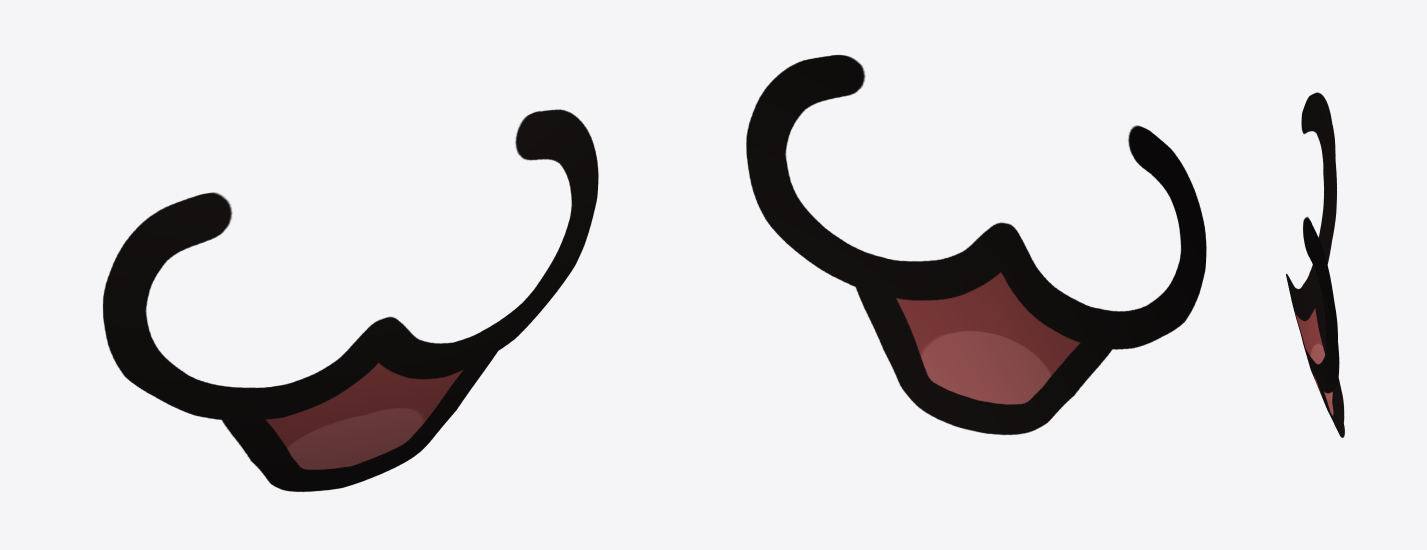
Rendered from Mouth6.glb.
3 views of the same model, side by side, from view 1: azimuth 30°, elevation 25°; view 2: azimuth 150°, elevation 25°; view 3: azimuth 270°, elevation 25° (orthographic). The views are drawn at different scales.
Parts seen in each view (by area): view 1: Mouth6; view 2: Mouth6; view 3: Mouth6.
Part boxes in pixels (<box>): Mouth6: <box>102,109,598,491</box>; Mouth6: <box>746,54,1206,434</box>; Mouth6: <box>1286,92,1344,437</box>.
Bounding box in the file's own units: 0.1613 × 0.1059 × 0.0388.
Materials: 1 (1 with a texture image).
